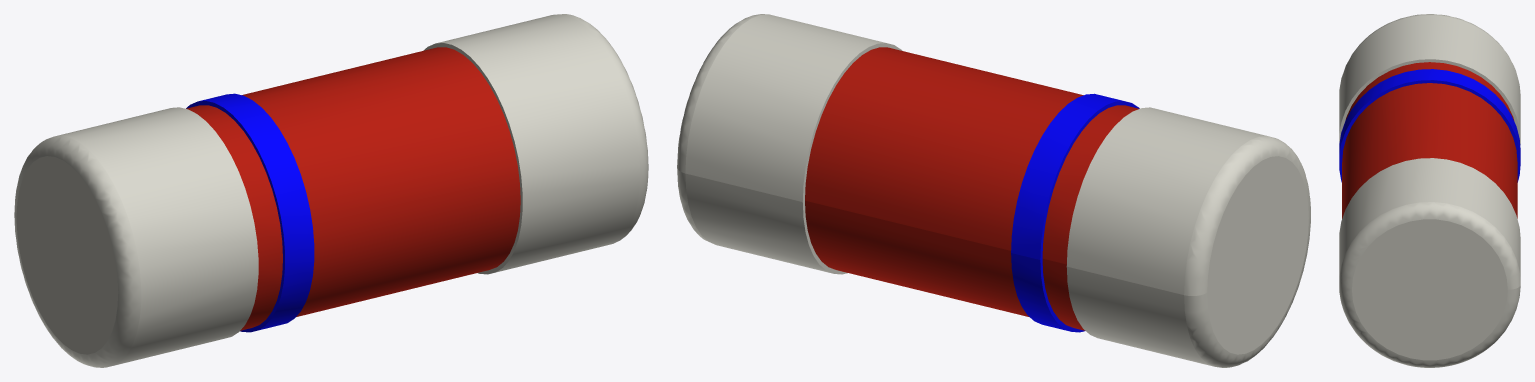
File: Diode_SMD_D_MiniMELF.glb
The picture shows the model from 3 angles, left to right: view 1: azimuth 30°, elevation 25°; view 2: azimuth 150°, elevation 25°; view 3: azimuth 270°, elevation 25°; orthographic projection. The views are drawn at different scales.
Bounding box in the file's own units: 3.6 × 1.4 × 1.4.
